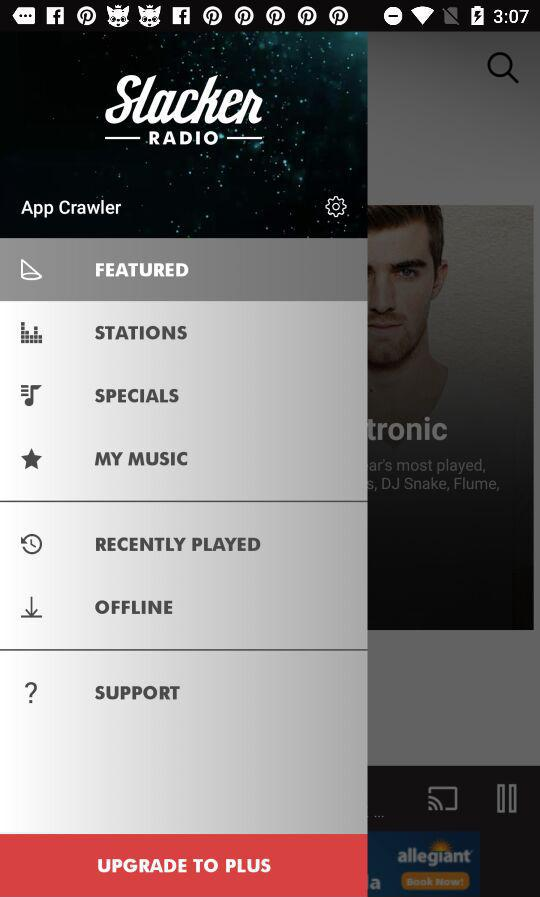Drawer: (1, 32, 368, 897)
Icon: (487, 52, 520, 84), (325, 196, 348, 219), (21, 448, 43, 470), (21, 596, 43, 618), (21, 534, 43, 555), (25, 682, 38, 704)
Image: (105, 74, 264, 146), (21, 259, 44, 282), (21, 322, 43, 345), (21, 385, 43, 407)
Text: (96, 537, 262, 552), (22, 200, 123, 220), (96, 263, 190, 278), (95, 452, 188, 467), (95, 326, 188, 341), (96, 686, 181, 701), (95, 389, 180, 404), (95, 600, 174, 615)
TextButton: (1, 834, 368, 897)
UpperTaskBar: (1, 1, 540, 33)
